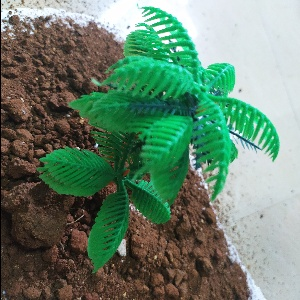plant: (36, 6, 284, 268)
